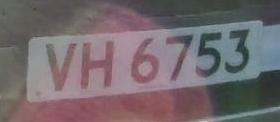3: (221, 23, 256, 76)
5: (194, 25, 224, 82)
6: (127, 32, 167, 94)
7: (161, 28, 195, 88)
H: (76, 38, 122, 96)
V: (39, 38, 79, 99)
